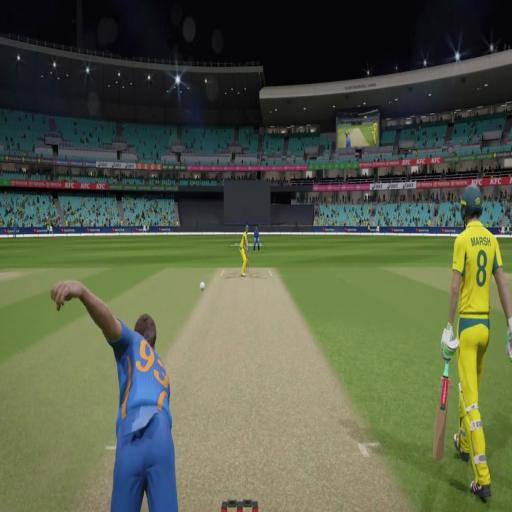ball: (200, 279, 205, 294)
